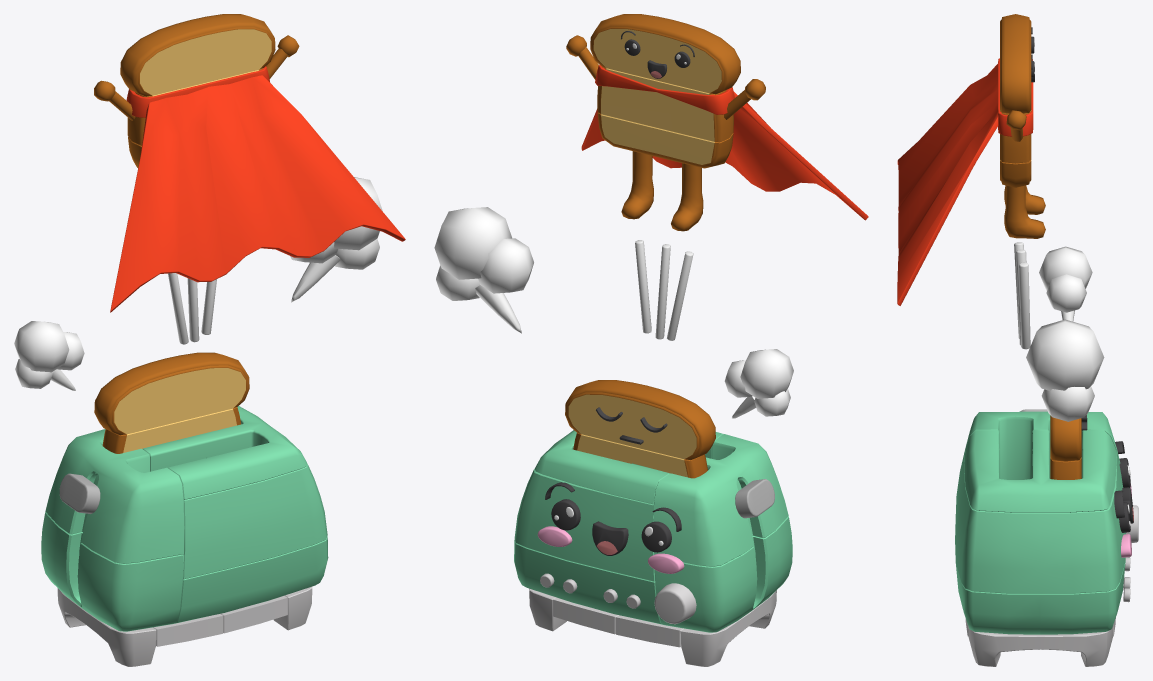
Rendered from Level_P_44.fbx.
3 views of the same model, side by side, from view 1: azimuth 30°, elevation 25°; view 2: azimuth 150°, elevation 25°; view 3: azimuth 270°, elevation 25° (orthographic). The views are drawn at different scales.
Visible parts, largest first — view 1: Griller_6.002, Griller_4, Griller_16, Griller_2, Griller_13, Griller_12, Griller_15, Griller_14, TOASTER.003, TOASTER.004, Griller_3, Griller_7 (+6 smaller); view 2: Griller_4, Griller_13, Griller_12, Griller_16, TOASTER.004, Griller_6.002, Griller_2, Griller_11, Griller_6, Griller_14, Griller_15, Cylinder.244 (+9 smaller); view 3: Griller_16, Griller_6.002, Griller_15, Griller_14, TOASTER.004, Griller_4, Griller_18, Griller_12, TOASTER.003, Griller_11, Griller_13, TOASTER.002 (+3 smaller).
Part boxes in pixels (bbox=[...]): Griller_6.002: bbox=[110, 66, 405, 312]; Griller_4: bbox=[45, 429, 184, 563]; Griller_16: bbox=[183, 464, 327, 579]; Griller_2: bbox=[41, 512, 183, 631]; Griller_13: bbox=[94, 352, 249, 435]; Griller_12: bbox=[120, 14, 275, 96]; Griller_15: bbox=[143, 406, 307, 499]; Griller_14: bbox=[175, 536, 328, 623]; TOASTER.003: bbox=[14, 321, 84, 390]; TOASTER.004: bbox=[290, 177, 382, 302]; Griller_3: bbox=[57, 588, 156, 666]; Griller_7: bbox=[102, 407, 240, 453]; Griller_4: bbox=[653, 434, 788, 566]; Griller_13: bbox=[565, 380, 715, 460]; Griller_12: bbox=[590, 14, 740, 94]; Griller_16: bbox=[514, 469, 654, 581]; TOASTER.004: bbox=[434, 207, 533, 333]; Griller_6.002: bbox=[581, 65, 868, 220]; Griller_2: bbox=[654, 516, 792, 632]; Griller_11: bbox=[597, 112, 733, 231]; Griller_6: bbox=[566, 35, 765, 142]; Griller_14: bbox=[514, 540, 661, 624]; Griller_15: bbox=[535, 430, 722, 504]; Cylinder.244: bbox=[537, 482, 684, 573]; Griller_16: bbox=[955, 450, 1125, 593]; Griller_6.002: bbox=[897, 58, 1033, 305]; Griller_15: bbox=[964, 430, 1116, 512]; Griller_14: bbox=[955, 562, 1125, 634]; TOASTER.004: bbox=[1026, 319, 1104, 421]; Griller_4: bbox=[960, 411, 1120, 479]; Griller_18: bbox=[968, 624, 1113, 666]; Griller_12: bbox=[1000, 14, 1034, 113]; TOASTER.003: bbox=[1039, 246, 1092, 321]; Griller_11: bbox=[1000, 160, 1045, 238]; Griller_13: bbox=[1050, 415, 1087, 461]; TOASTER.002: bbox=[1014, 242, 1030, 349].
Bounding box in the file's own units: 12.07 × 19.45 × 7.19.
